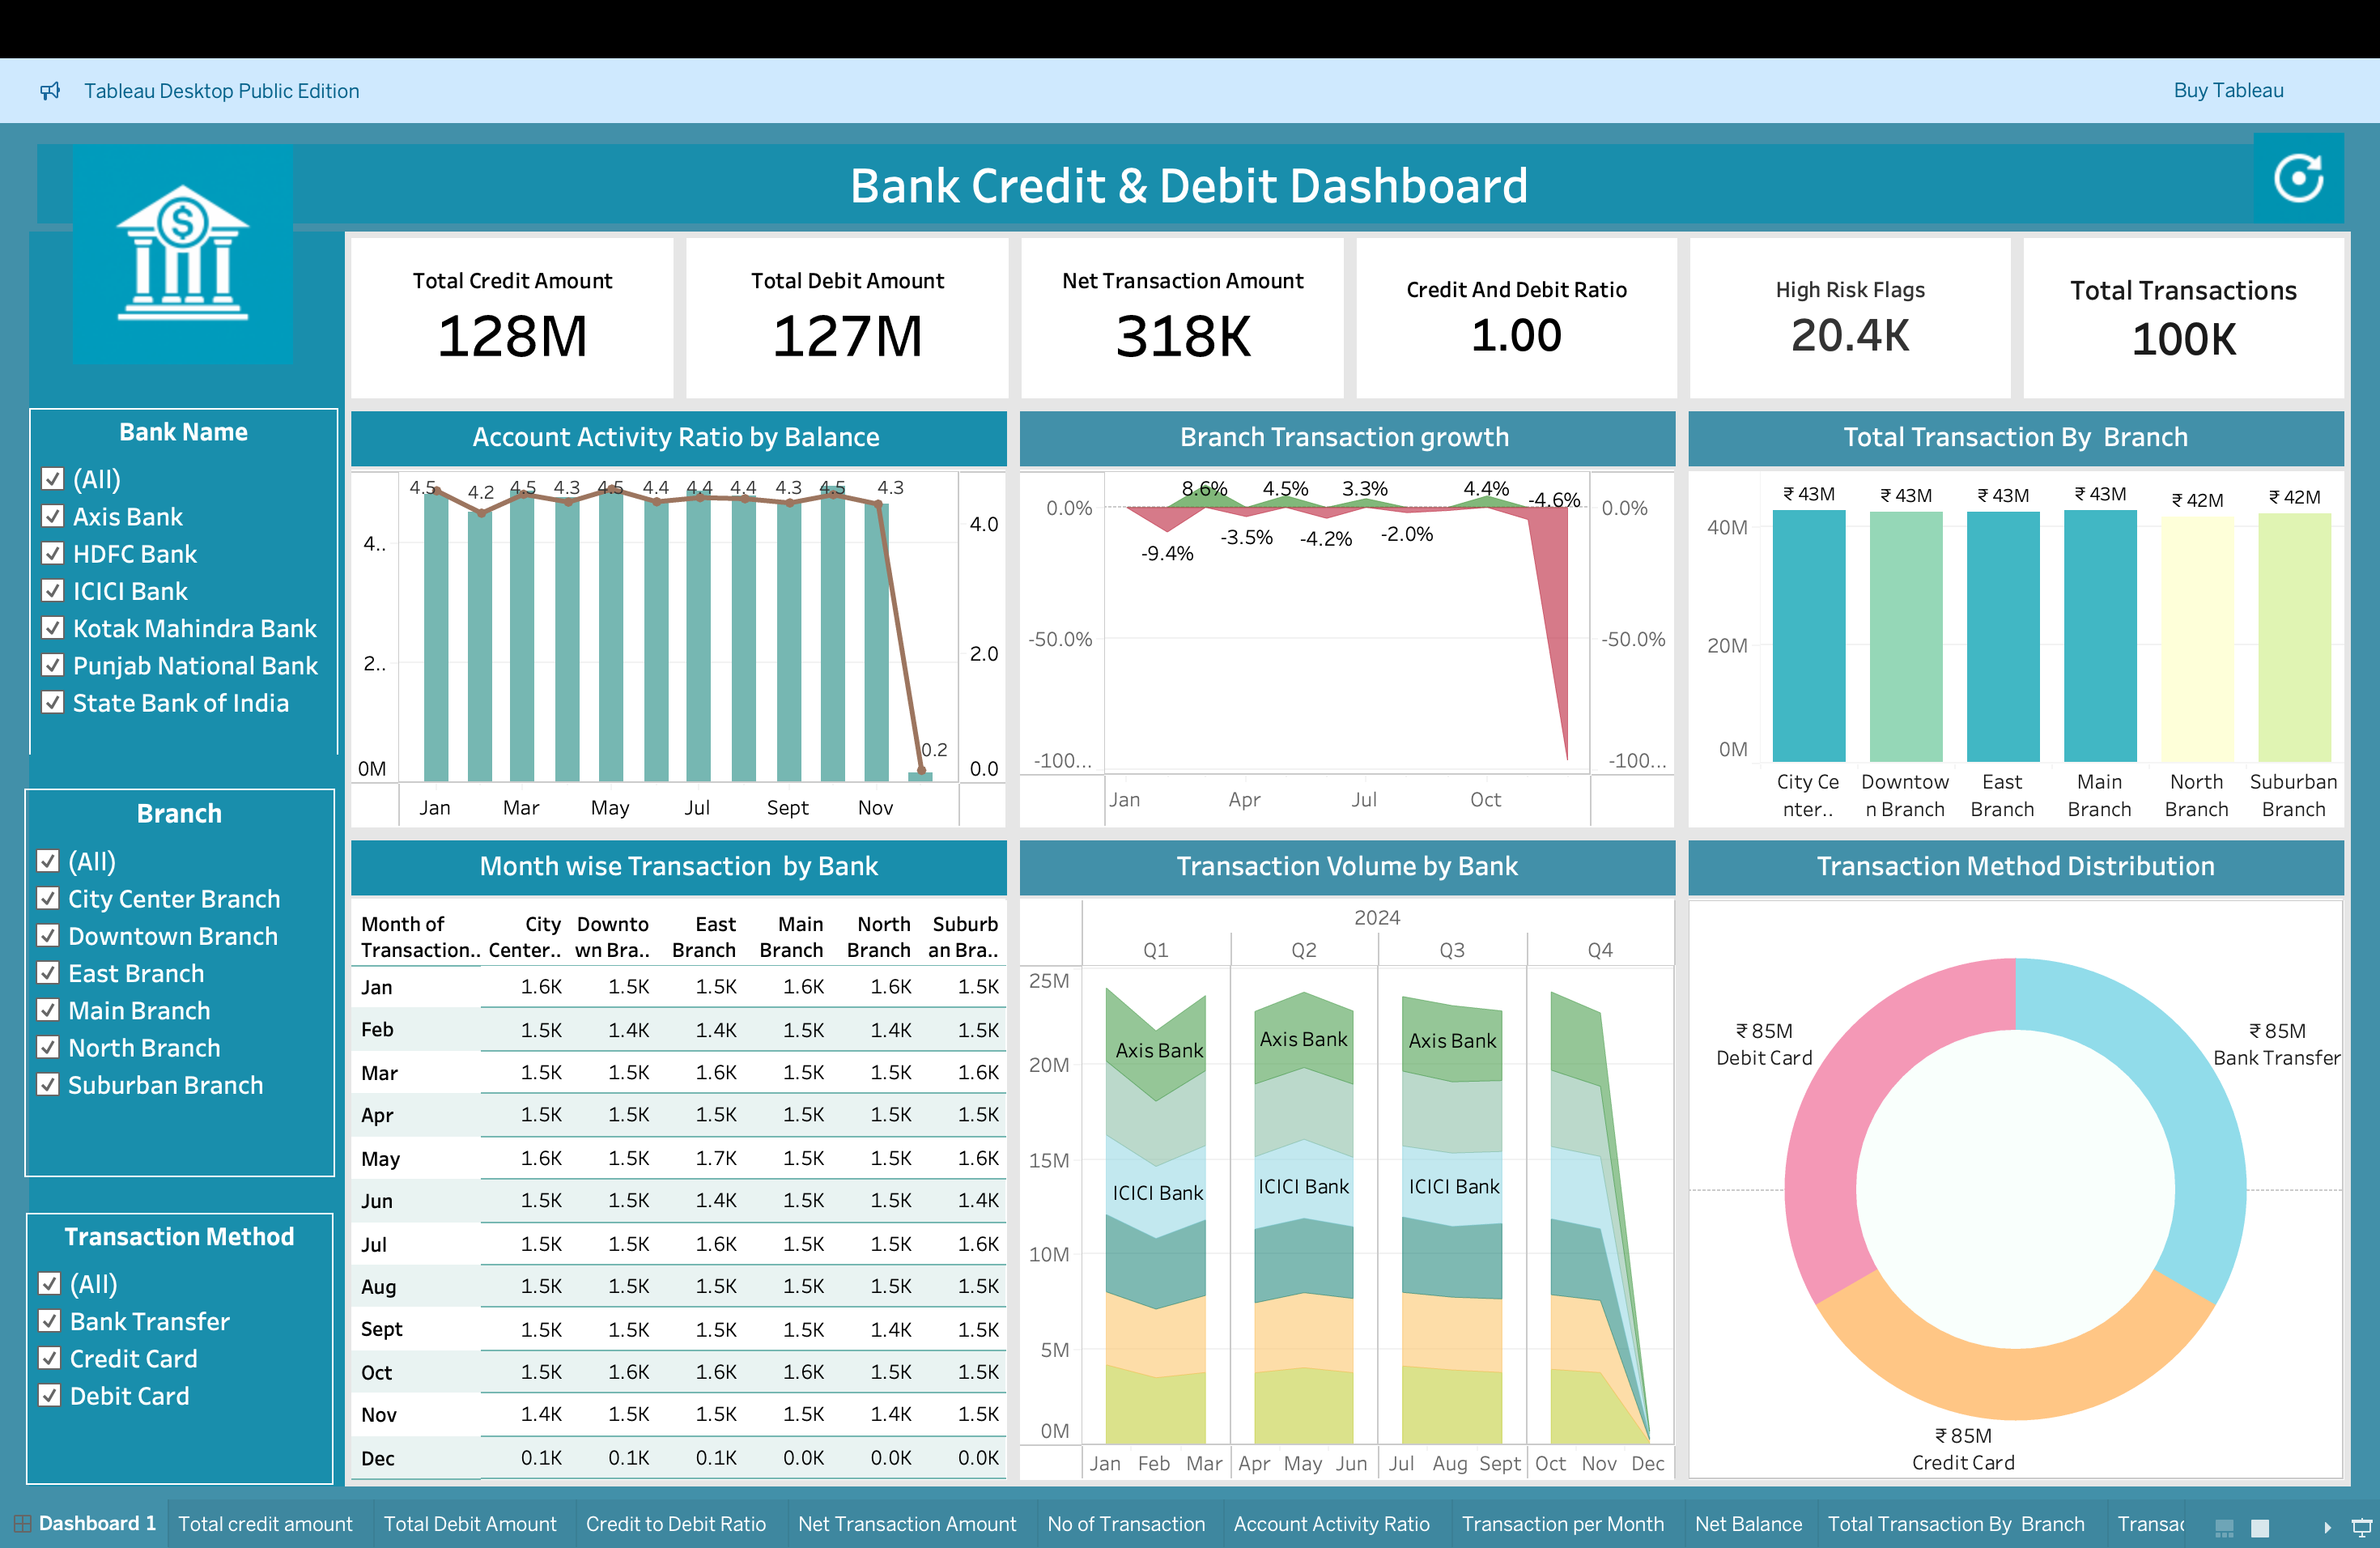

The dashboard page shown, as its layout file describes it:
{"tool":"tableau","page":{"name":"Dashboard 1","canvas":[1000,1000],"units":"permille","ordinal":0},"visuals":[{"type":"image","param":"Image/ChatGPT Image Oct 22, 2025, 04_17_58 PM.png","box":[949.5,7.6,45.7,66]},{"type":"title","box":[5.5,10.2,988.9,69.8]},{"type":"image","param":"Image/ChatGPT Image Oct 22, 2025, 04_01_11 PM.png","box":[5.6,15.2,131.1,159.9]},{"type":"blank","box":[5.5,79.9,134.2,910]},{"type":"worksheet","title":"Total credit amount","mark":"Automatic","box":[139.9,80,142.7,135.8]},{"type":"worksheet","title":"Total Debit Amount","mark":"Automatic","box":[282.6,80,142.7,135.8]},{"type":"worksheet","title":"Net Transaction Amount","mark":"Automatic","box":[425.2,80,142.7,135.8]},{"type":"worksheet","title":"Credit to Debit Ratio","mark":"Automatic","box":[567.9,80,142.7,135.8]},{"type":"worksheet","title":"Total High Risk Flags","mark":"Automatic","box":[710.5,80,142,135.8]},{"type":"worksheet","title":"No of Transaction","mark":"Automatic","box":[852.5,80,142,135.8]},{"type":"filter","title":"Account Activity Ratio","param":"[federated.15l762p1x43m541arg2v40szi86y].[none:Bank Name:nk]","box":[5.6,206.8,131.8,252.5]},{"type":"worksheet","title":"Account Activity Ratio","mark":"Automatic","rows":["Balance","Calculation_1056938601043767301"],"cols":["Transaction Date"],"box":[139.9,215.7,285.3,336.3]},{"type":"worksheet","title":"Branch Transaction growth ","mark":"Area","rows":["Calculation_3507248645303316480","Calculation_3507248645303586817"],"cols":["Transaction Date"],"box":[425.2,215.7,284.6,336.3]},{"type":"worksheet","title":"Total Transaction By  Branch","mark":"Automatic","rows":["Amount"],"cols":["Branch"],"box":[709.8,215.7,284.6,336.3]},{"type":"filter","title":"Transaction Volume by Bank","param":"[federated.15l762p1x43m541arg2v40szi86y].[none:Branch:nk]","box":[3.2,484.1,132.6,282.6]},{"type":"worksheet","title":"Transaction per Month","mark":"Automatic","rows":["Transaction Date"],"cols":["Branch"],"box":[139.9,552,285.3,437.8]},{"type":"worksheet","title":"Transaction Volume by Bank","mark":"Area","rows":["Amount"],"cols":["Transaction Date","Transaction Date","Transaction Date"],"box":[425.2,552,284.6,437.8]},{"type":"worksheet","title":"Transaction Method Distribution","mark":"Pie","rows":["Calculation_678354758511607810","Calculation_1056938601061220359"],"box":[709.8,552,284.6,437.8]},{"type":"filter","title":"Transaction per Month","param":"[federated.15l762p1x43m541arg2v40szi86y].[none:Transaction Method:nk]","box":[4.2,791.9,130.9,198]}]}

Visuals, with their boxes on the dashboard's canvas, which has no fixed pixel size, in thousandths of its width and height (x1, y1, x2, y2). These are canvas units, not pixel positions in the 2380x1548 screenshot, which may show the page scaled, cropped or inside an application window:
image: (950, 8, 995, 74)
title: (6, 10, 994, 80)
image: (6, 15, 137, 175)
blank: (6, 80, 140, 990)
"Total credit amount" worksheet: (140, 80, 283, 216)
"Total Debit Amount" worksheet: (283, 80, 425, 216)
"Net Transaction Amount" worksheet: (425, 80, 568, 216)
"Credit to Debit Ratio" worksheet: (568, 80, 711, 216)
"Total High Risk Flags" worksheet: (710, 80, 852, 216)
"No of Transaction" worksheet: (852, 80, 994, 216)
"Account Activity Ratio" filter: (6, 207, 137, 459)
"Account Activity Ratio" worksheet: (140, 216, 425, 552)
"Branch Transaction growth " worksheet (Area marks): (425, 216, 710, 552)
"Total Transaction By  Branch" worksheet: (710, 216, 994, 552)
"Transaction Volume by Bank" filter: (3, 484, 136, 767)
"Transaction per Month" worksheet: (140, 552, 425, 990)
"Transaction Volume by Bank" worksheet (Area marks): (425, 552, 710, 990)
"Transaction Method Distribution" worksheet (Pie marks): (710, 552, 994, 990)
"Transaction per Month" filter: (4, 792, 135, 990)
